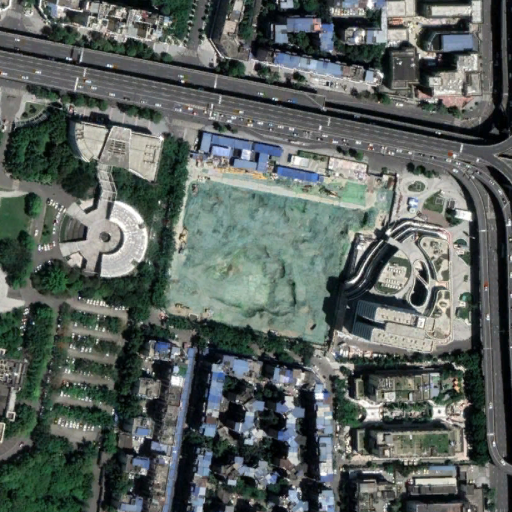cw: (161, 177, 393, 364)
